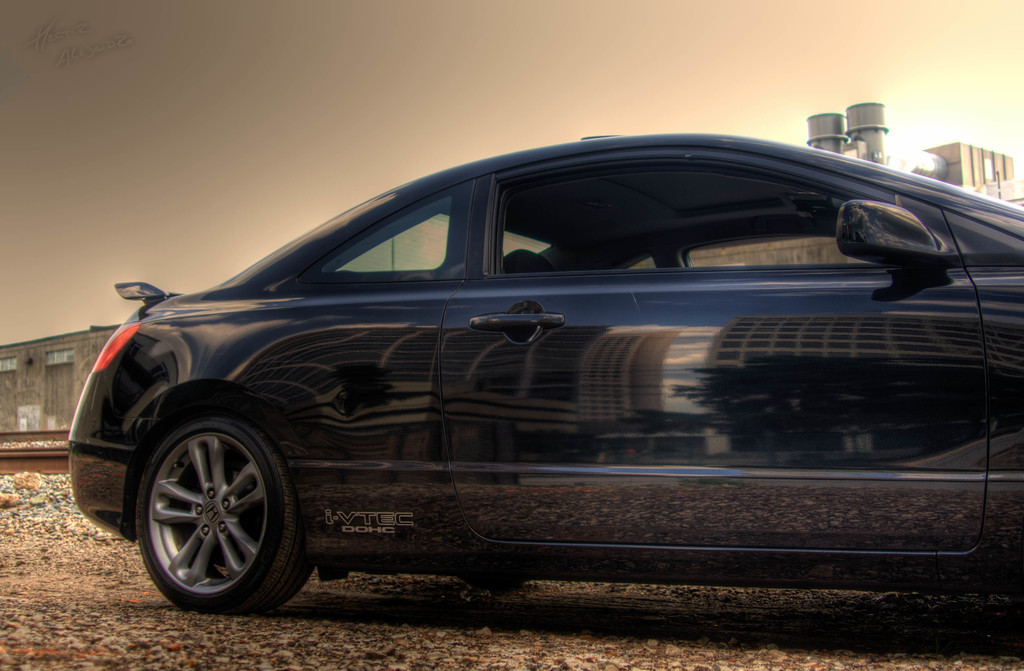Car: (70, 131, 1022, 608)
